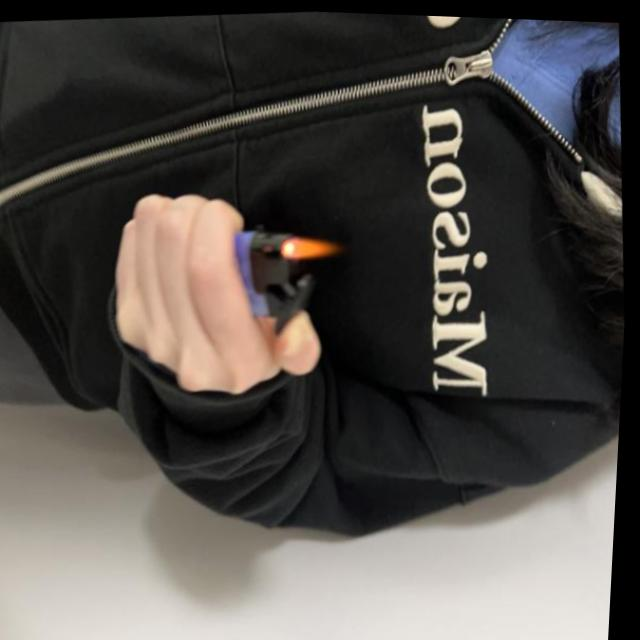Fire: (288, 227, 340, 261)
